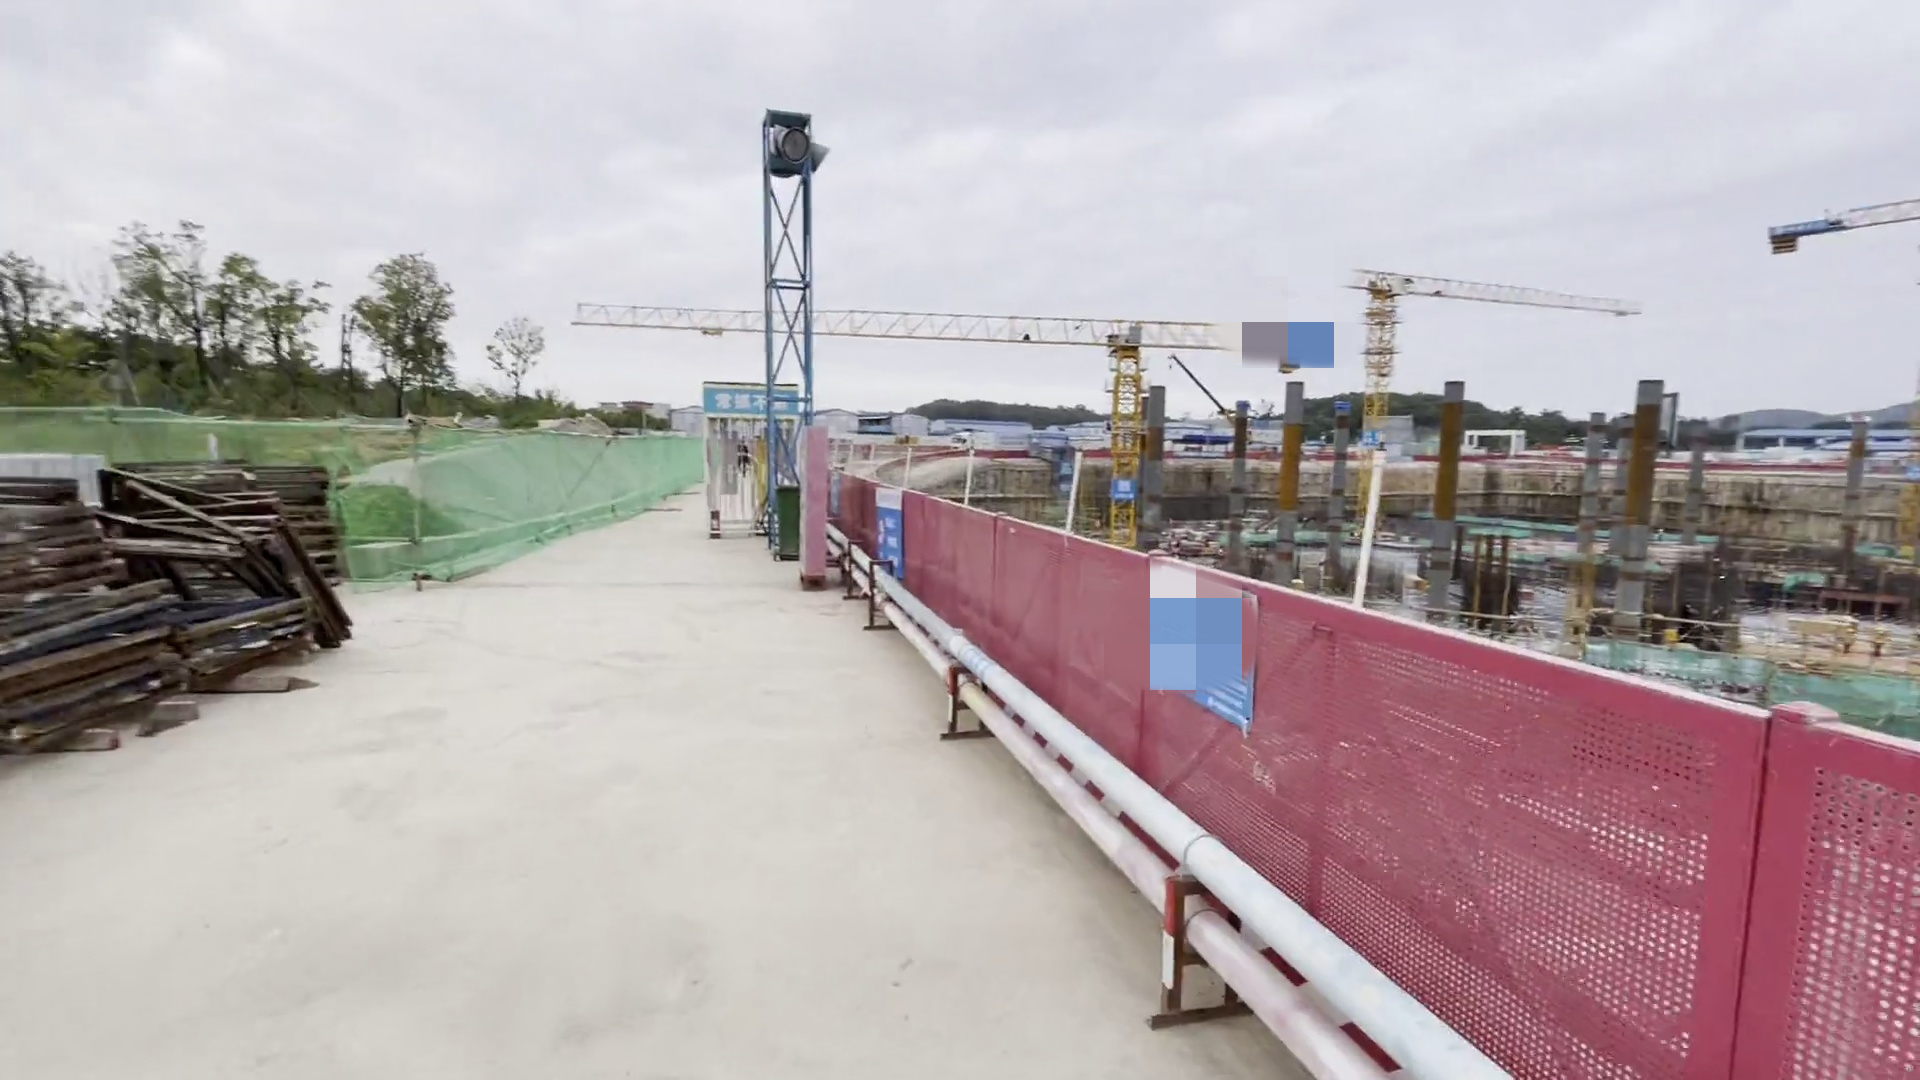ebox: (733, 443, 815, 534)
fence: (818, 469, 1867, 1064)
slogan: (1139, 575, 1259, 750), (862, 502, 926, 593), (683, 381, 808, 422)
